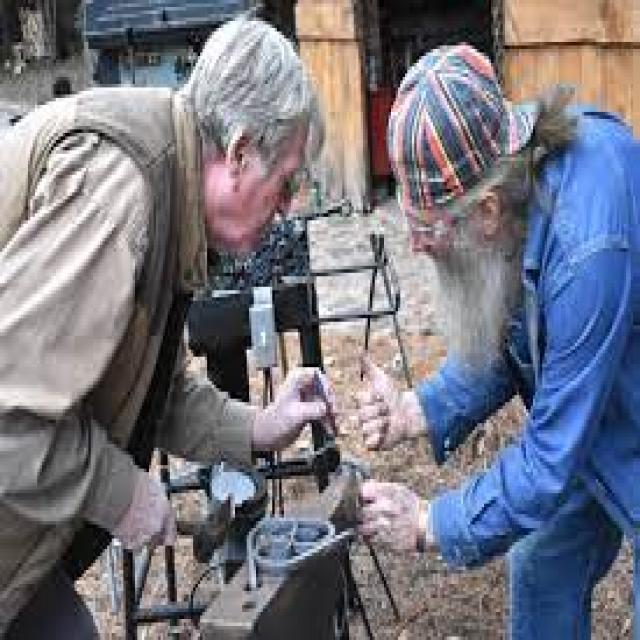hammer: (172, 493, 247, 567)
